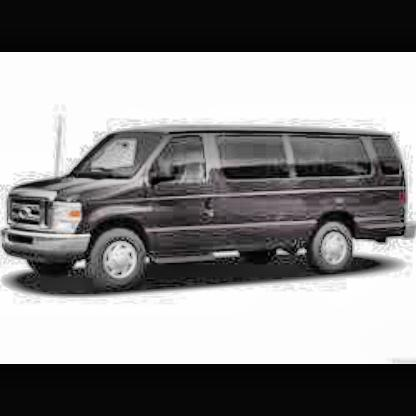Ford E-Series Wagon Van 2012: (2, 127, 416, 293)
